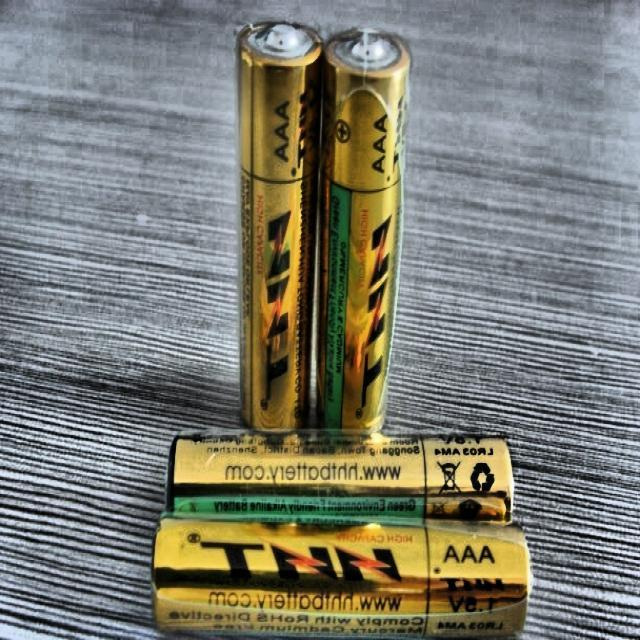battery: (153, 517, 530, 638), (317, 31, 410, 430), (240, 22, 323, 427), (169, 432, 513, 523)
